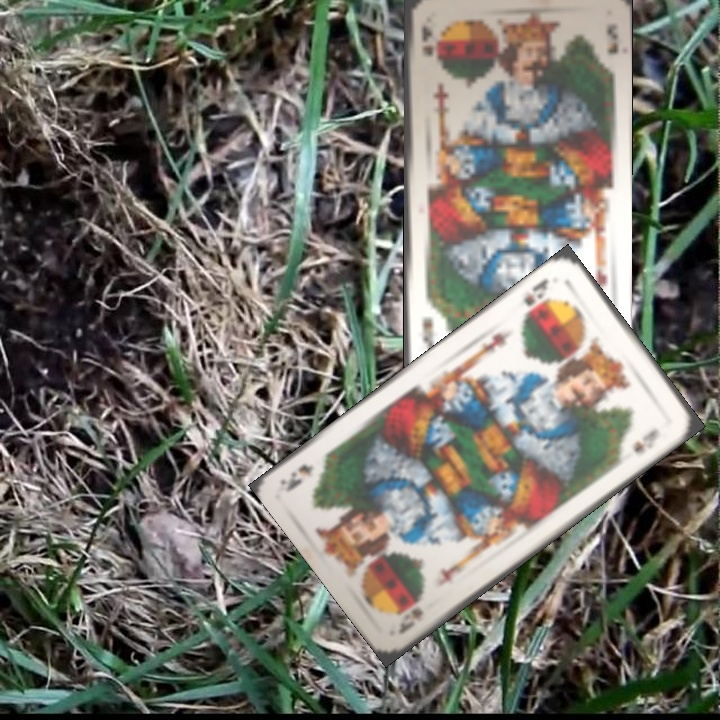SK: (519, 275, 552, 309), (393, 603, 426, 637), (417, 20, 435, 58)
